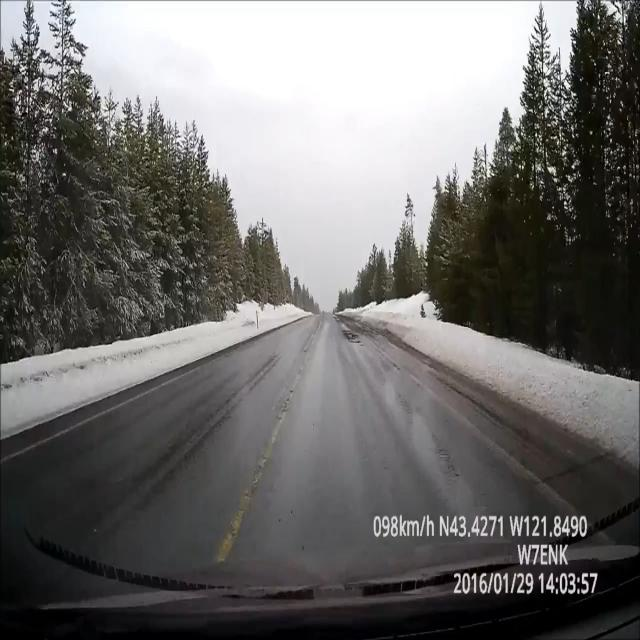Pothole: (343, 325, 364, 346)
